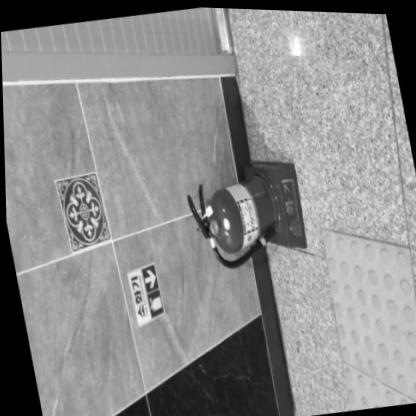FE: (179, 149, 311, 272)
